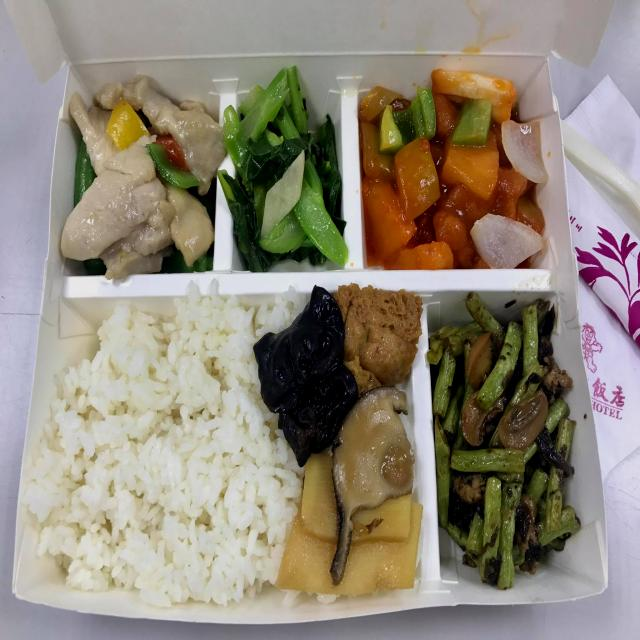Fried onions: (441, 315, 576, 573)
Fushan-lettuce: (233, 77, 344, 258)
Fushan-lettuceStir-fried Sweet Beans with Oyster Mushrooms: (86, 82, 216, 268)
rice: (63, 312, 268, 612)
